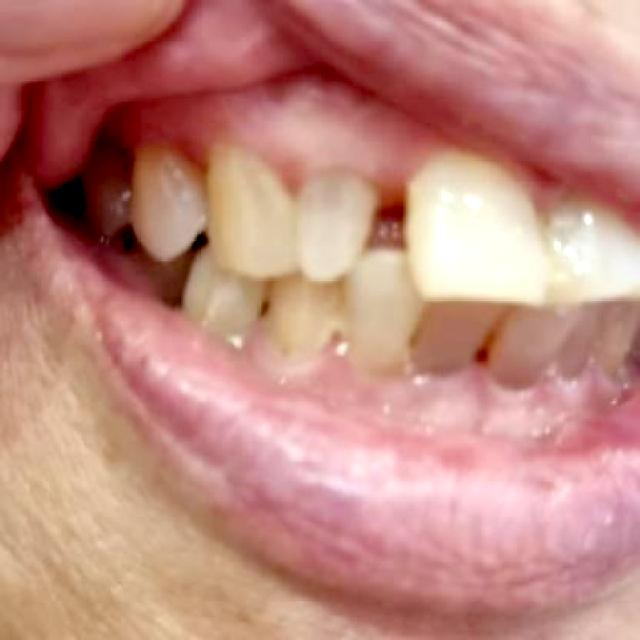Plaque: (261, 325, 500, 412)
